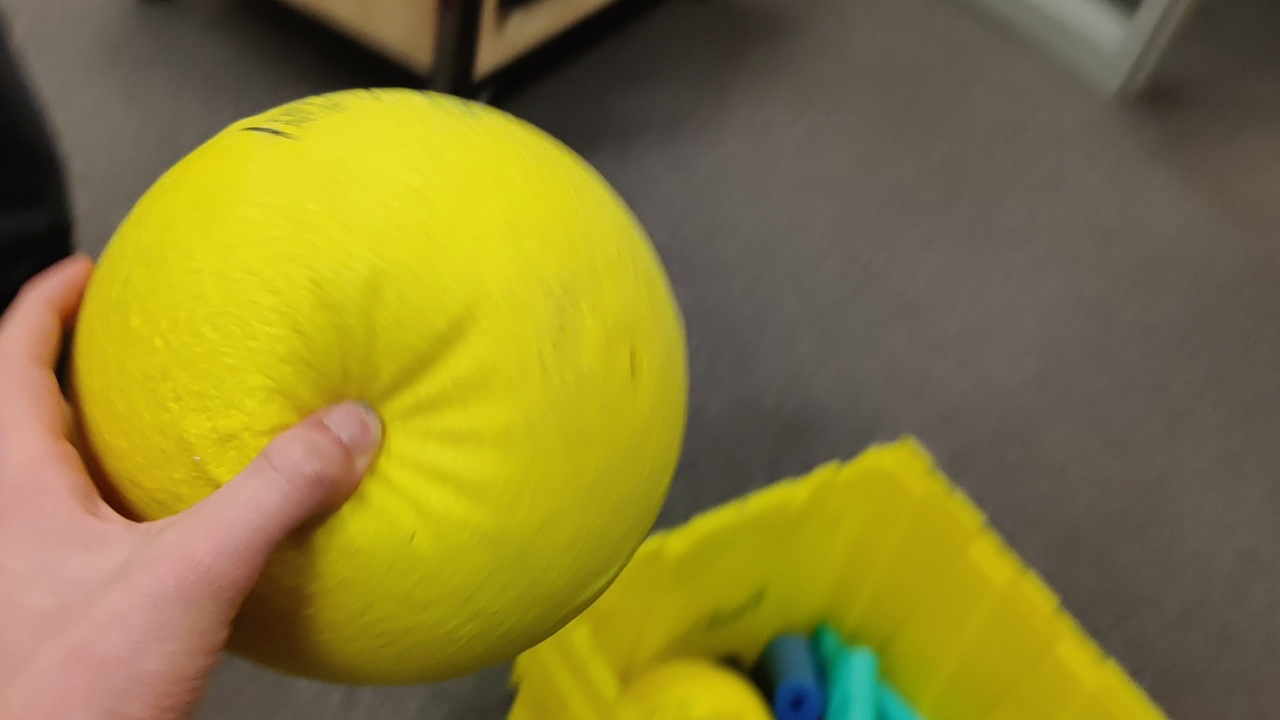Ball: (131, 91, 688, 670)
